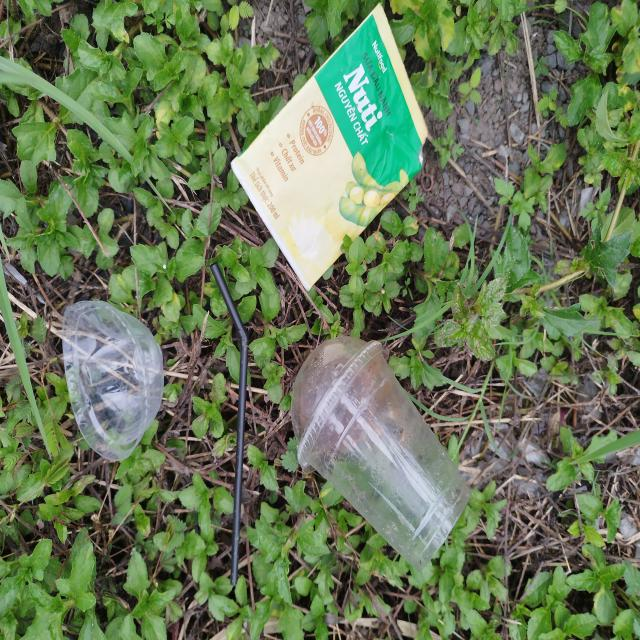drinking straw: (210, 260, 250, 589)
lid: (62, 300, 166, 462)
packet: (230, 1, 430, 292)
plastic glass: (294, 336, 472, 574)
